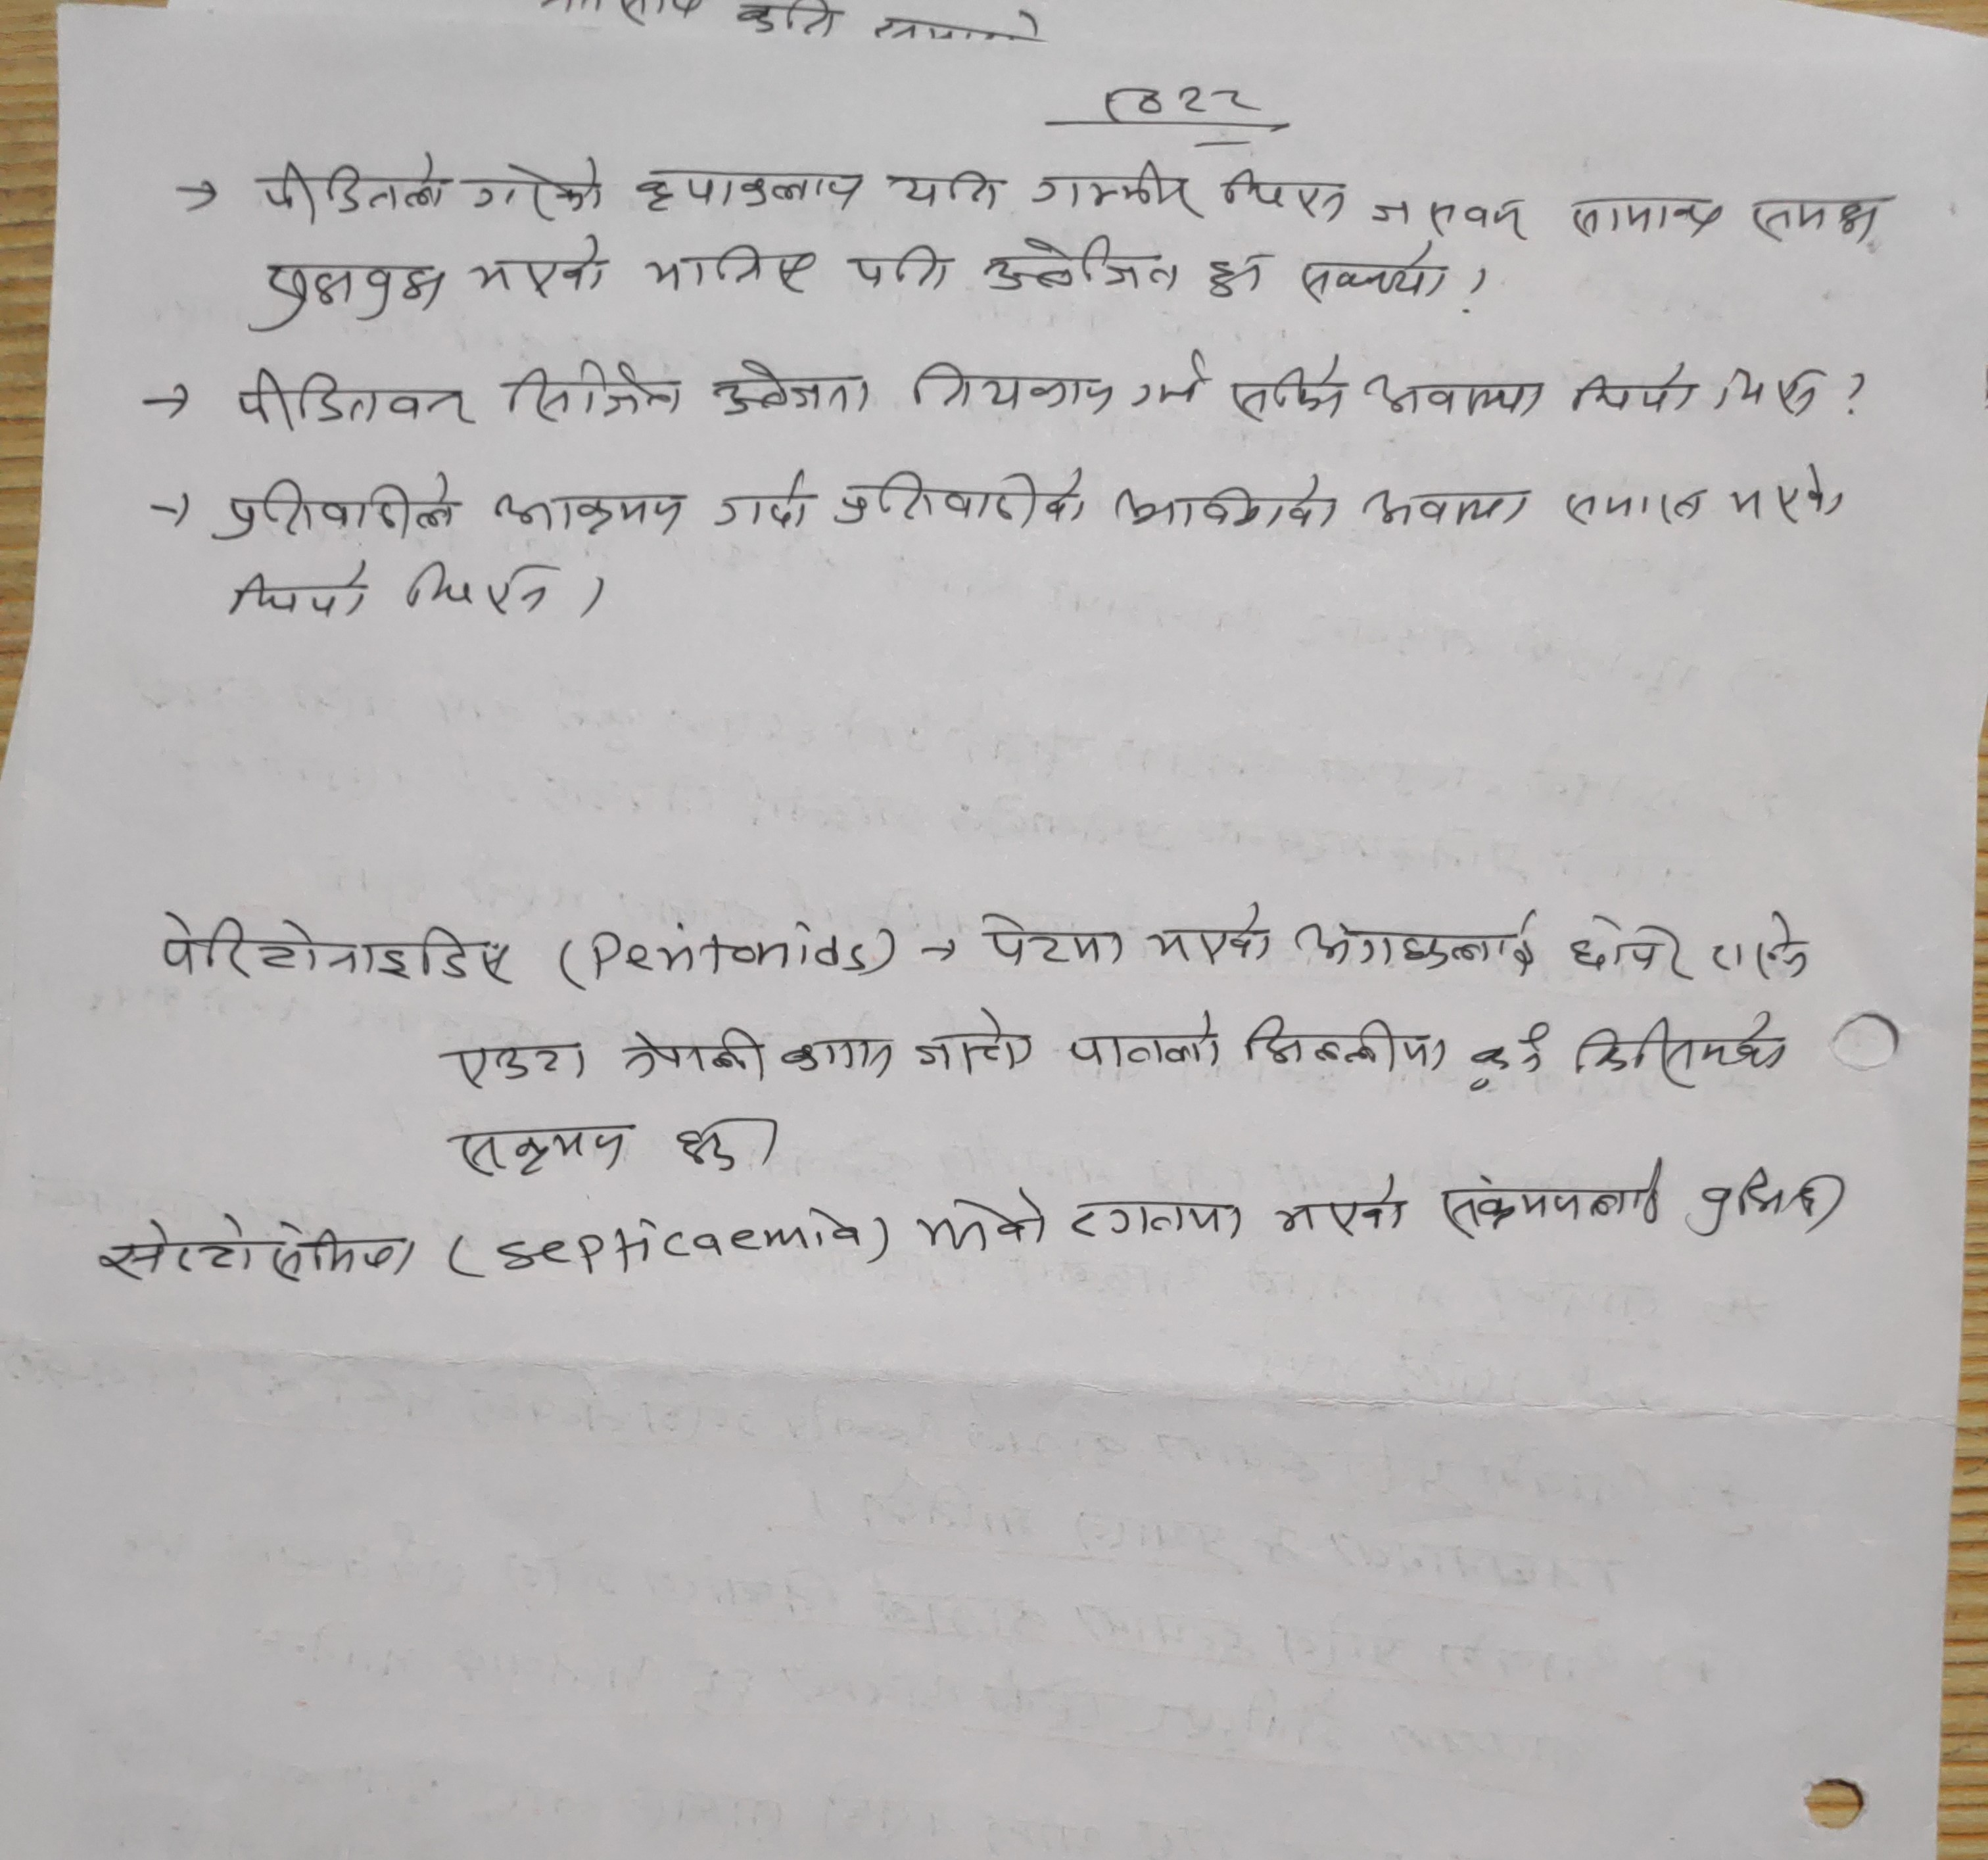text: (154, 907, 512, 991), (91, 1210, 420, 1287), (1428, 1150, 1668, 1243), (1299, 906, 1547, 979), (831, 463, 1095, 531), (233, 360, 481, 432), (1574, 1007, 1790, 1087), (215, 472, 462, 542), (254, 255, 446, 334), (983, 227, 1189, 299), (909, 357, 1119, 427), (1241, 1010, 1449, 1079), (1112, 474, 1345, 533), (1682, 1166, 1848, 1243), (252, 154, 453, 217), (631, 164, 869, 217), (490, 482, 691, 542), (1364, 367, 1553, 430), (505, 358, 684, 425), (708, 355, 876, 421), (1296, 241, 1448, 313), (900, 1003, 1042, 1080), (467, 226, 617, 297), (448, 1126, 633, 1183), (402, 551, 556, 619), (224, 558, 379, 624), (977, 906, 1126, 974), (643, 243, 824, 299), (1025, 157, 1192, 215), (1357, 481, 1533, 535), (911, 1190, 1054, 1257), (1567, 907, 1689, 984), (1065, 1014, 1227, 1072), (1229, 351, 1348, 430), (1068, 1192, 1252, 1243), (1364, 191, 1530, 246), (439, 1035, 594, 1094), (624, 1023, 769, 1086), (1726, 456, 1850, 530), (1098, 77, 1268, 129), (1266, 1171, 1406, 1234), (469, 154, 607, 217), (1142, 906, 1275, 970), (1217, 164, 1355, 226), (1570, 360, 1700, 423), (1567, 191, 1733, 239), (1706, 906, 1810, 982), (1713, 360, 1829, 423), (1558, 481, 1712, 528), (776, 1028, 900, 1086), (712, 470, 820, 535), (845, 238, 955, 299), (1462, 1016, 1549, 1087), (892, 163, 1000, 217), (1131, 344, 1220, 409), (670, 1108, 745, 1176), (1203, 246, 1273, 311)
